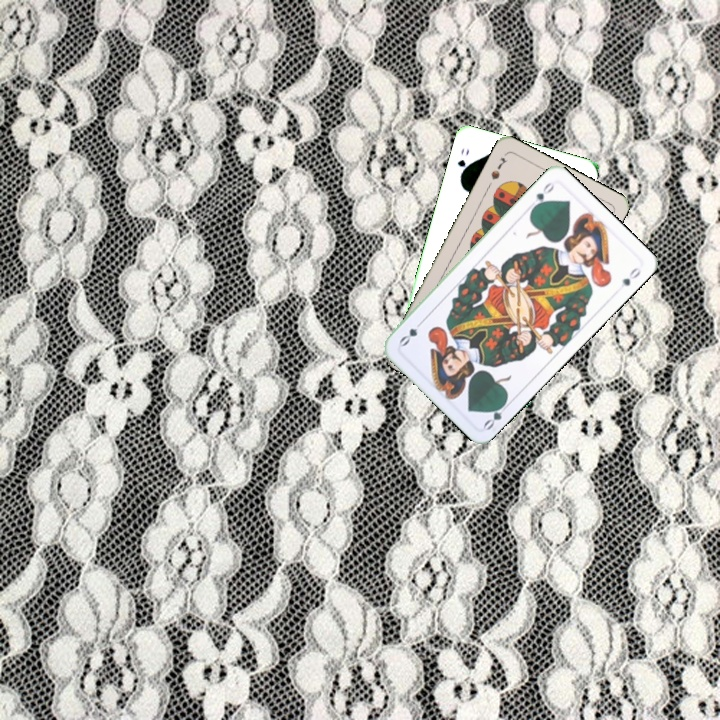GO: (480, 396, 513, 433), (528, 178, 557, 213), (453, 144, 472, 181)
S7: (487, 153, 510, 183)
